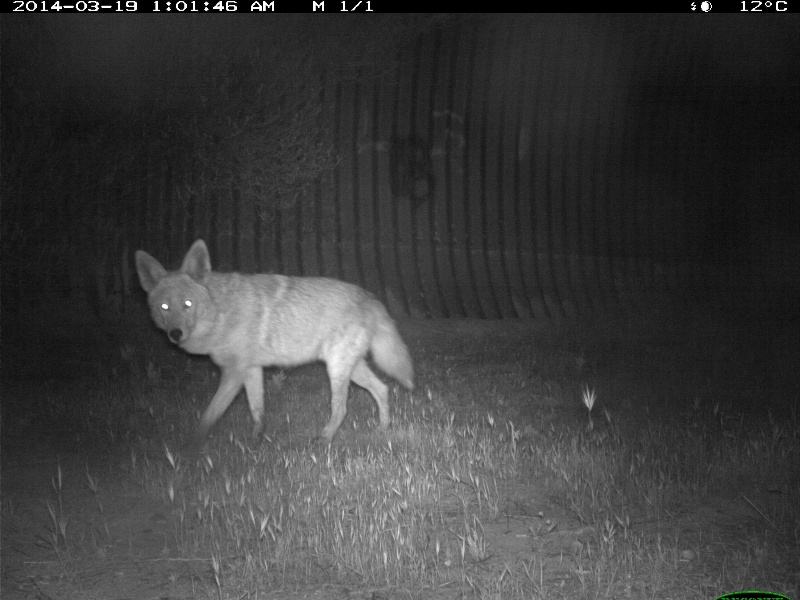coyote: (130, 238, 422, 444)
